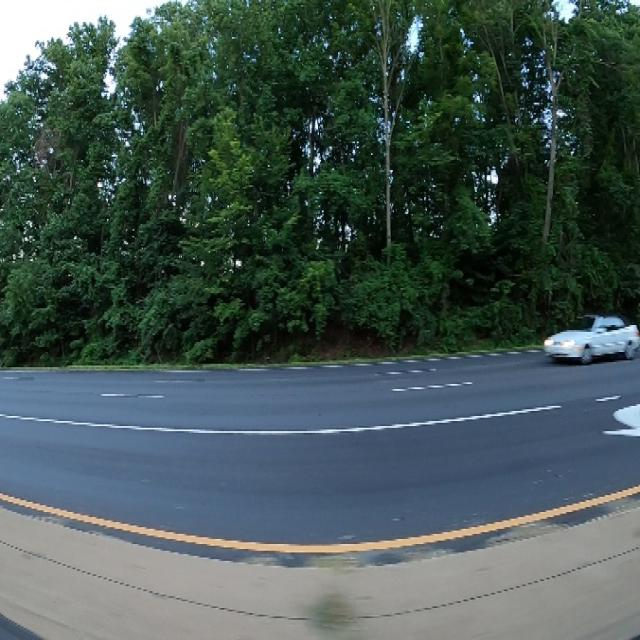cars: (545, 303, 640, 381)
